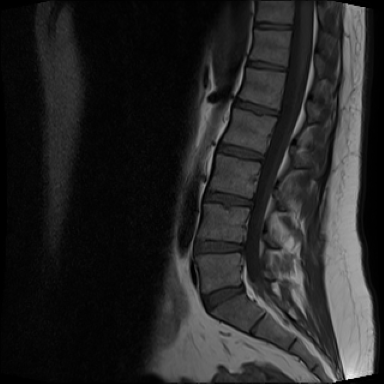Normal IVD: (198, 278, 248, 316), (198, 185, 257, 212), (189, 234, 248, 260), (217, 138, 268, 166), (231, 95, 282, 120), (243, 57, 292, 75), (253, 20, 296, 34)
